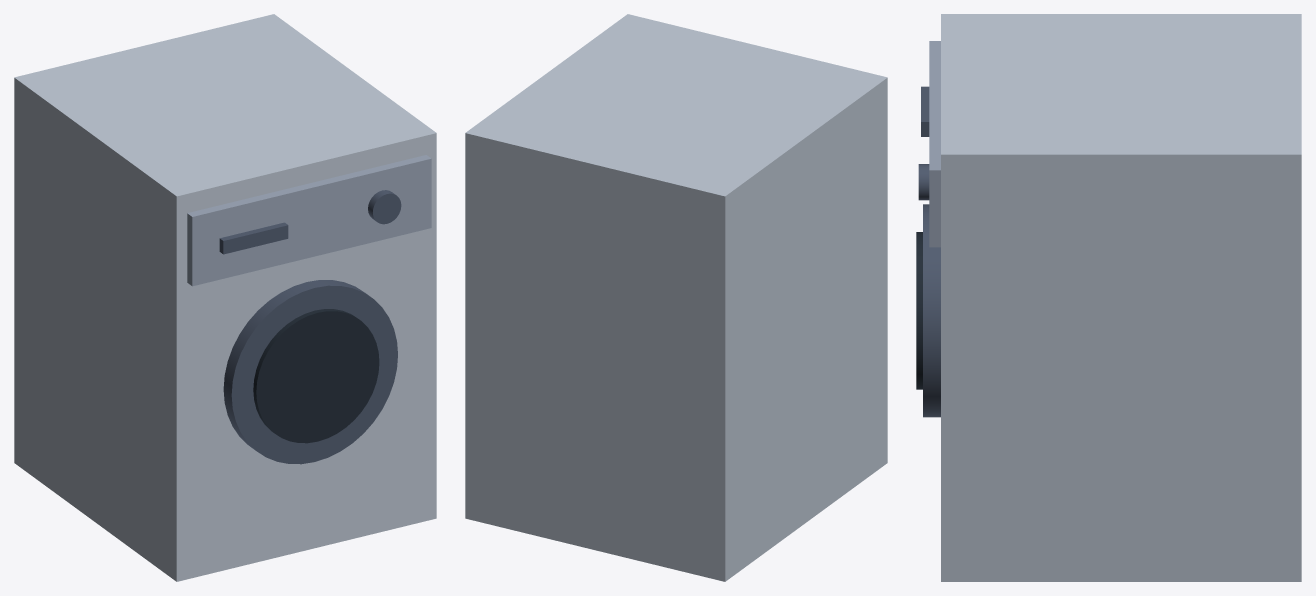
Rendered from dryer.glb.
3 views of the same model, side by side, from view 1: azimuth 30°, elevation 25°; view 2: azimuth 150°, elevation 25°; view 3: azimuth 270°, elevation 25° (orthographic). The views are drawn at different scales.
Parts seen in each view (by area): view 1: dryer; view 2: dryer; view 3: dryer.
Boxes of the visible parts, x1,y1,x2,y2 form: dryer: (14, 14, 436, 581); dryer: (465, 14, 887, 581); dryer: (916, 14, 1301, 581).
Bounding box in the file's own units: 0.6 × 0.85 × 0.6943.
